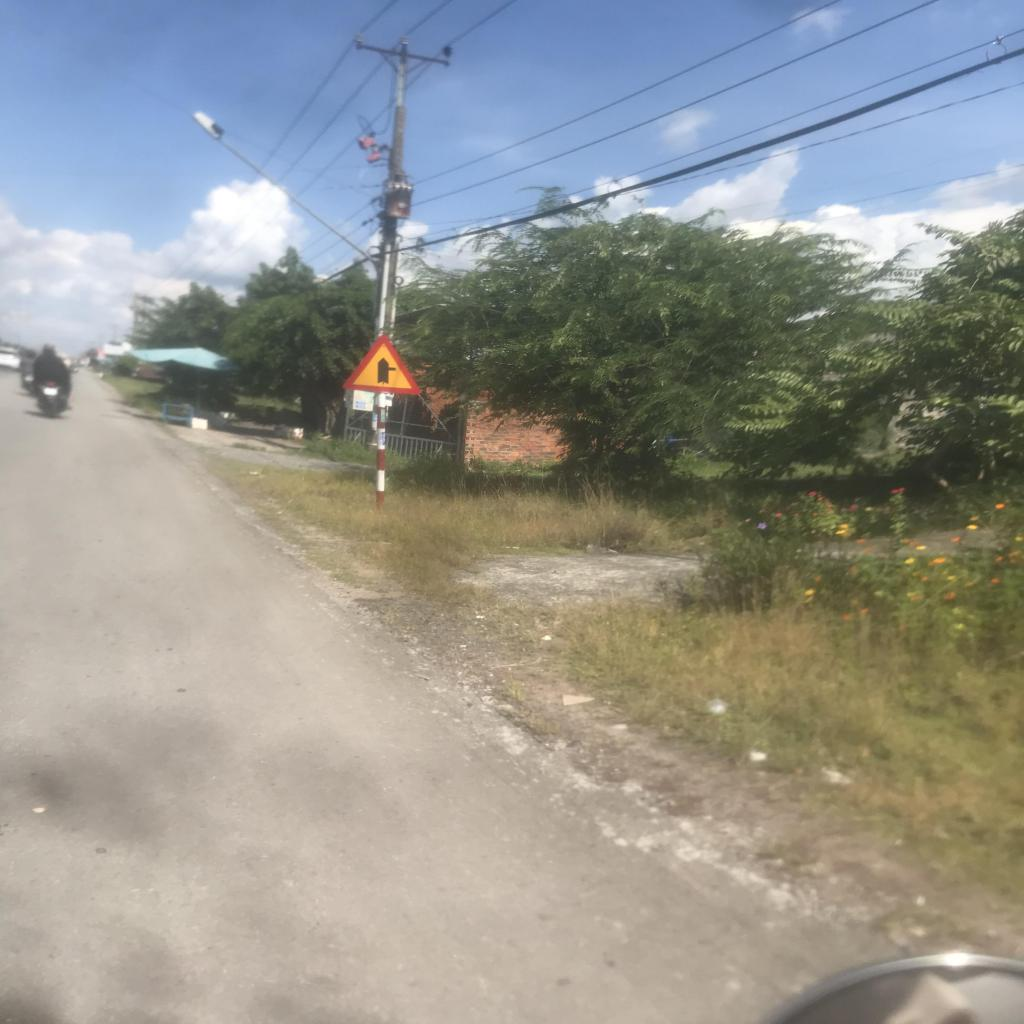giao_nhau_voi_duong_khong_uu_tien: (340, 332, 424, 395)
